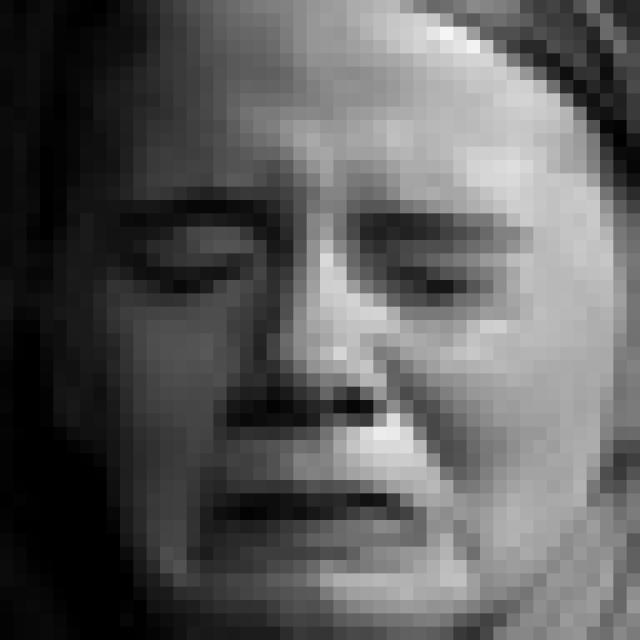sad: (108, 158, 541, 581)
